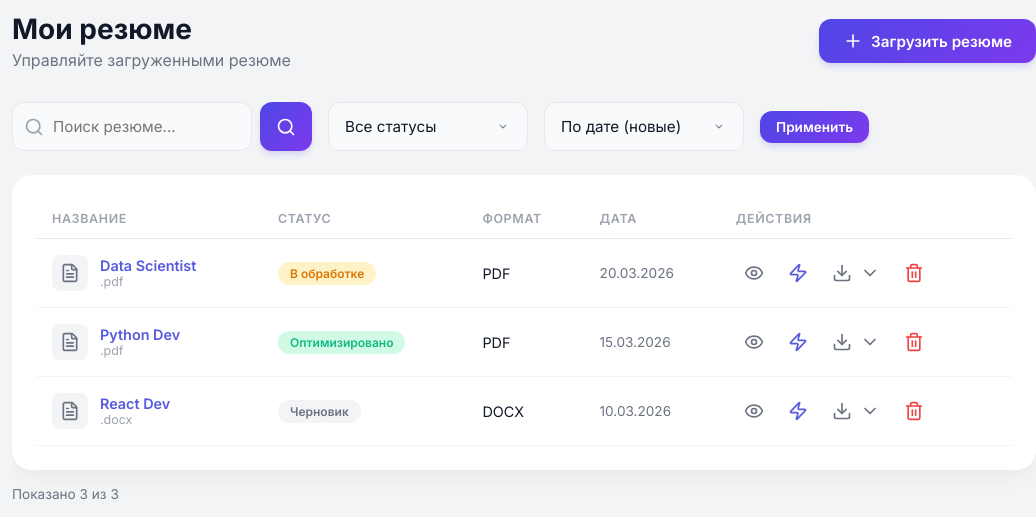
Test: ResumesPage (v3) › filters resumes by search query
Expected: the text "Python Dev" is shown, [100,326,180,343]
Type "React" into the field with placeholder "Поиск резюме...".
click(132, 126); type("React")  # box [12,102,252,151]
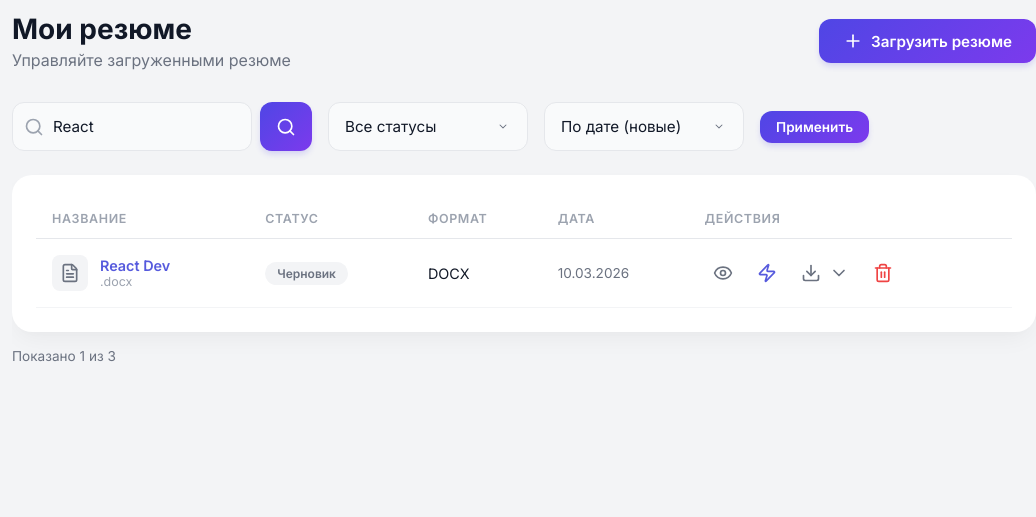
Expected: the text "React Dev" is shown, [100,257,170,274]
Result: the text "Python Dev" is gone
